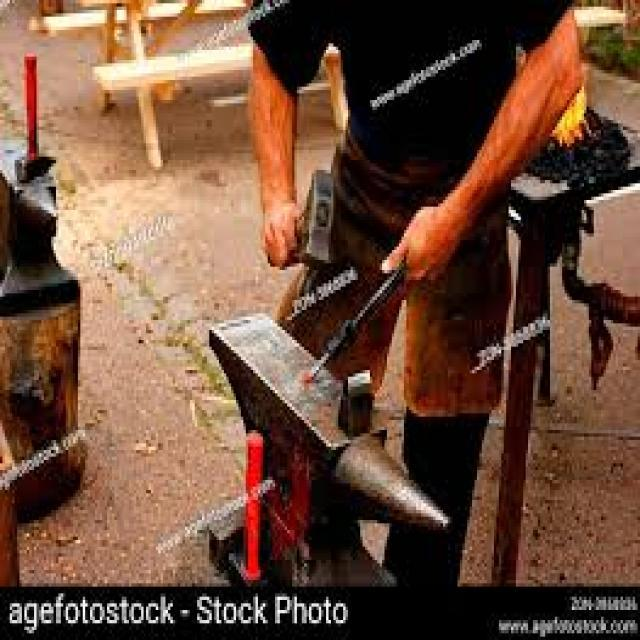hammer: (259, 162, 342, 282)
